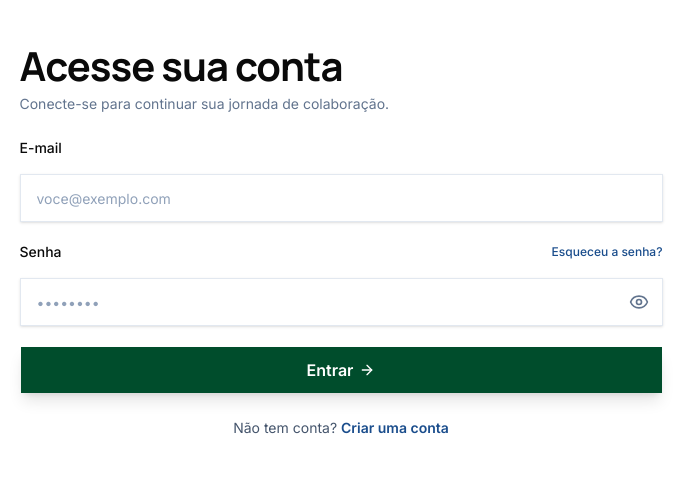
Test: LoginFormCard › should show required validation messages when submitting empty form
Step 1. Click the button "Entrar" → (341, 370), box left=20, top=346, right=662, bottom=394
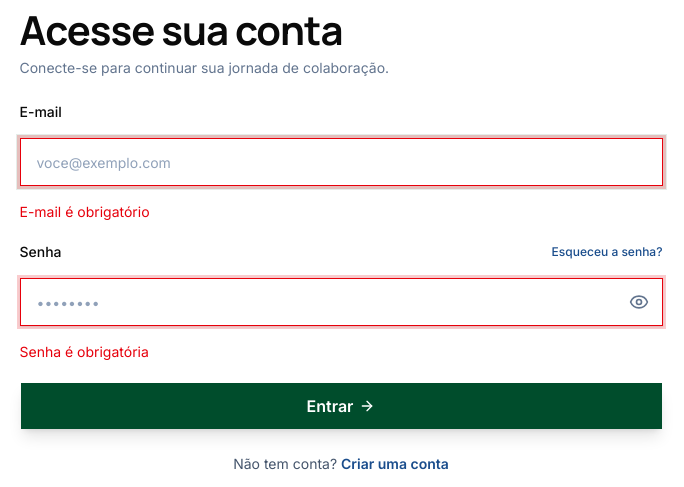
Check: the text "E-mail é obrigatório" is shown, box left=20, top=203, right=150, bottom=220
Check: the text "Senha é obrigatória" is shown, box left=20, top=343, right=149, bottom=360
